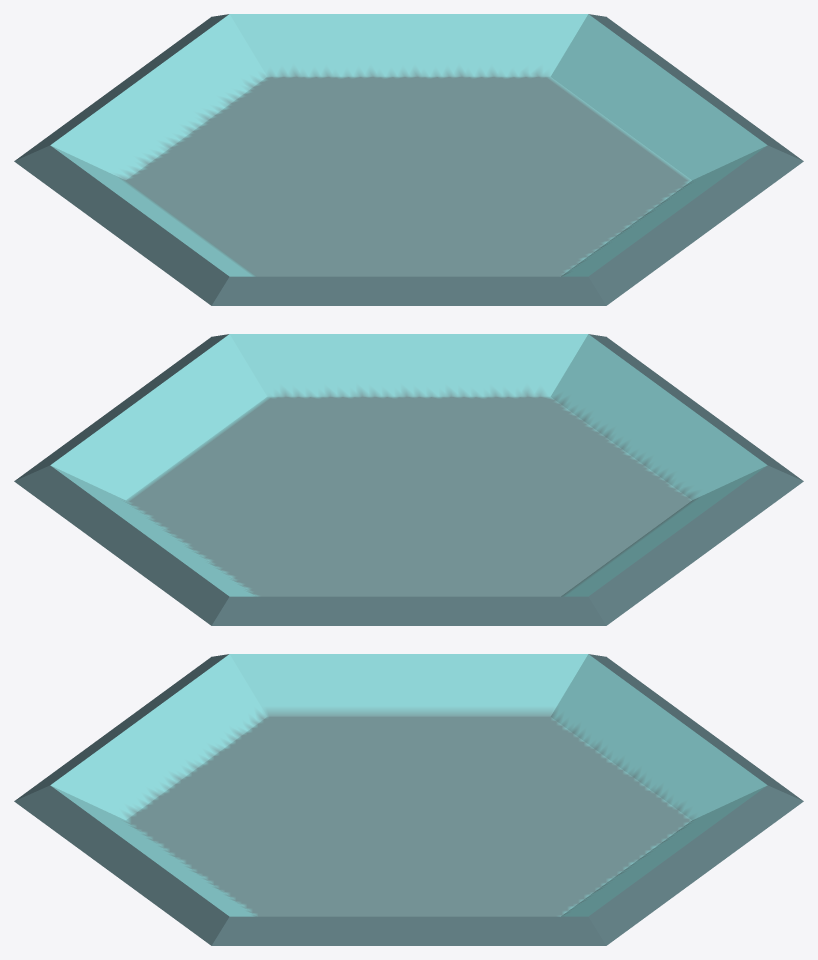
File: PratoVazio.fbx
3 renders of one model, top to bottom at view 1: azimuth 30°, elevation 25°; view 2: azimuth 150°, elevation 25°; view 3: azimuth 270°, elevation 25°, orthographic.
Visible parts, largest first — view 1: PratoVazio; view 2: PratoVazio; view 3: PratoVazio.
Boxes of the visible parts, x1,y1,x2,y2 form: PratoVazio: (14,14,803,305); PratoVazio: (14,334,803,625); PratoVazio: (14,654,803,945).
Bounding box in the file's own units: 173 × 16.62 × 200.
